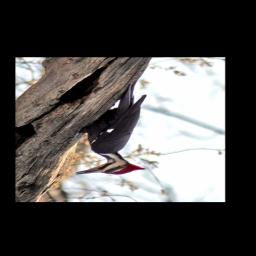Woodpecker: (73, 82, 149, 175)
